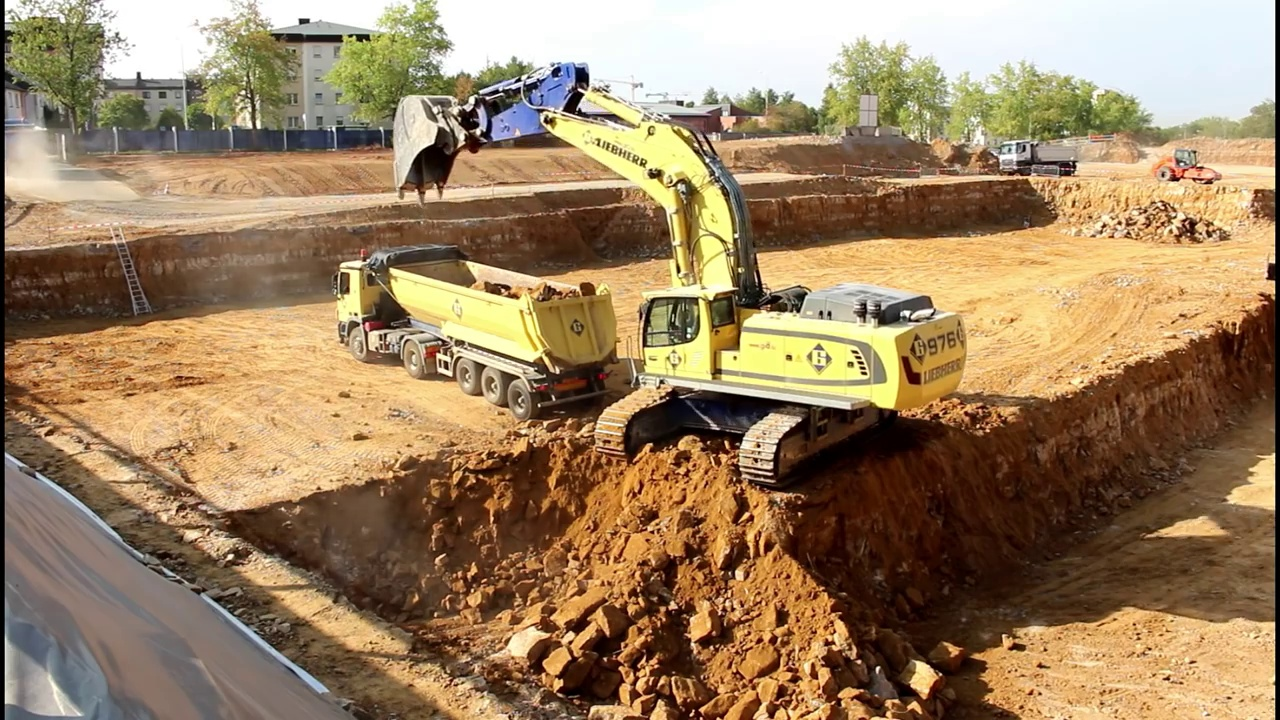truck: (334, 245, 617, 416), (1000, 135, 1077, 174)
wheel loader: (392, 61, 968, 492)
